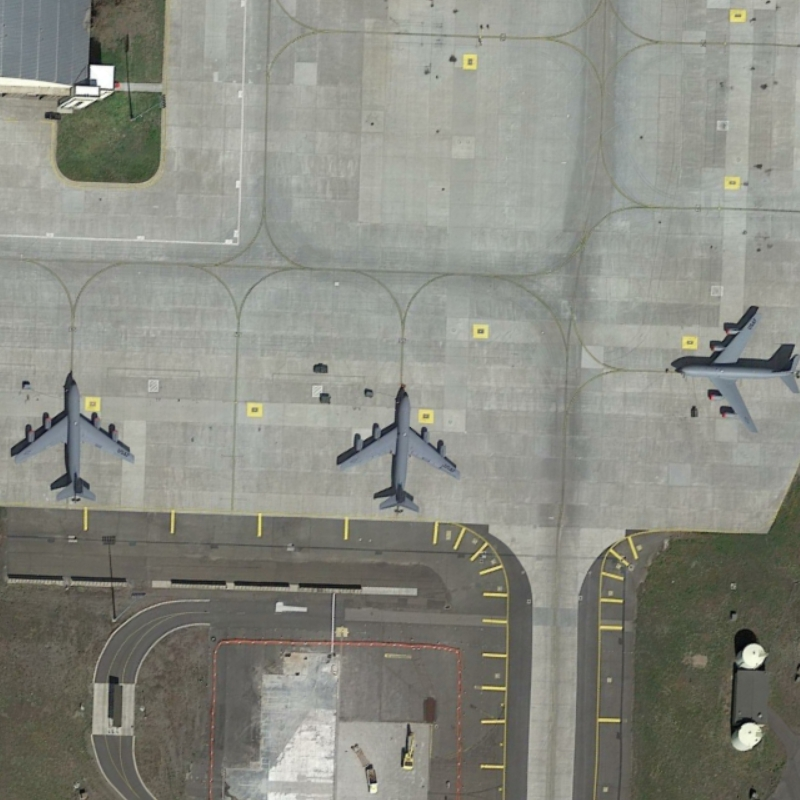A14: (330, 382, 472, 521), (9, 368, 145, 507), (671, 299, 800, 438)
